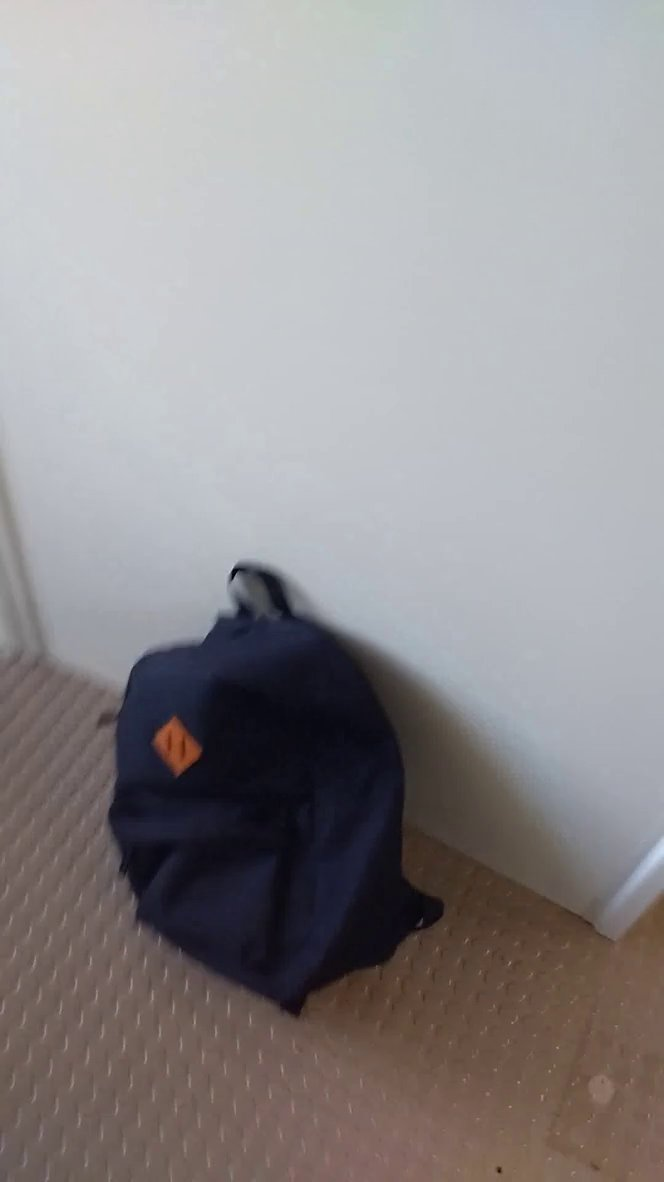bag: (87, 546, 455, 1033)
